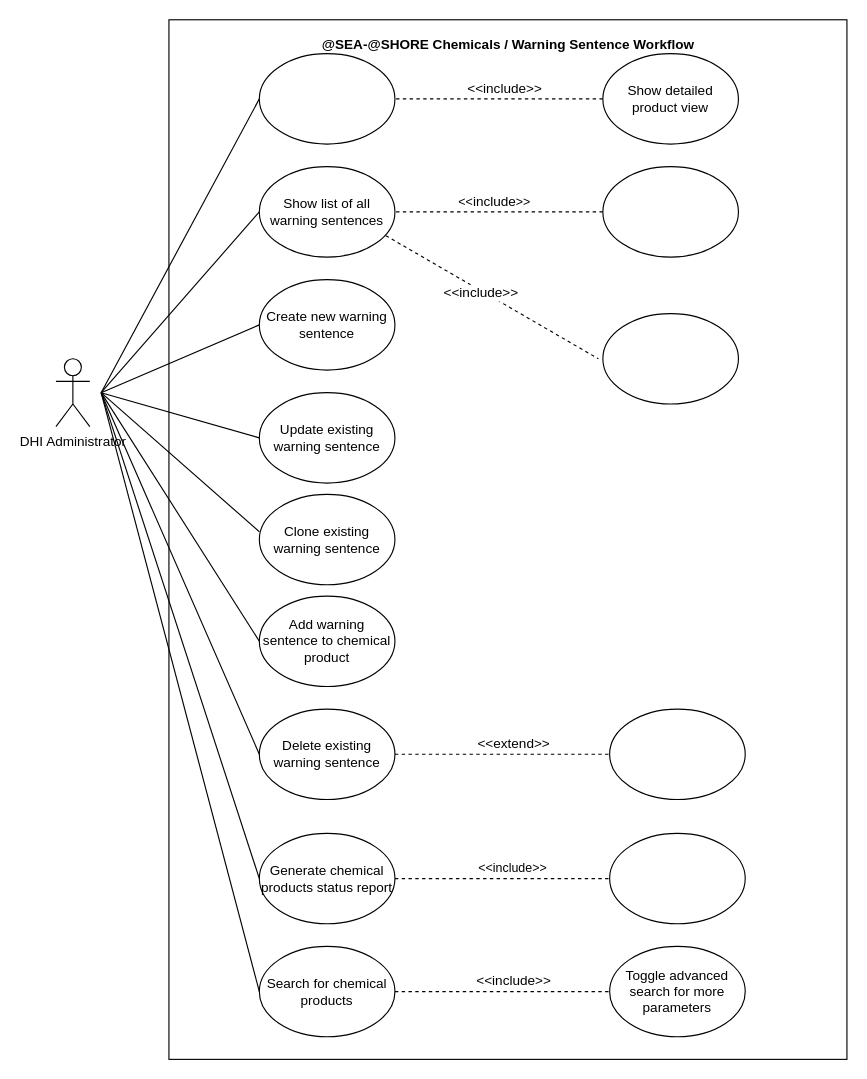
Image size: 867x1079. Some labels were removed from this diagram. The shapes that lost their labels are listed below. From the top down, each one's box as (x1, y1, x2, y2) in pixels, then its label:
(258, 53, 395, 144): Show list of all chemical products
(602, 166, 738, 257): Show detailed warning sentence view
(602, 312, 738, 404): Sort warning sentences in a custom order
(609, 708, 745, 799): Refuse deletion when in use
(609, 832, 745, 924): Export report as excel file
